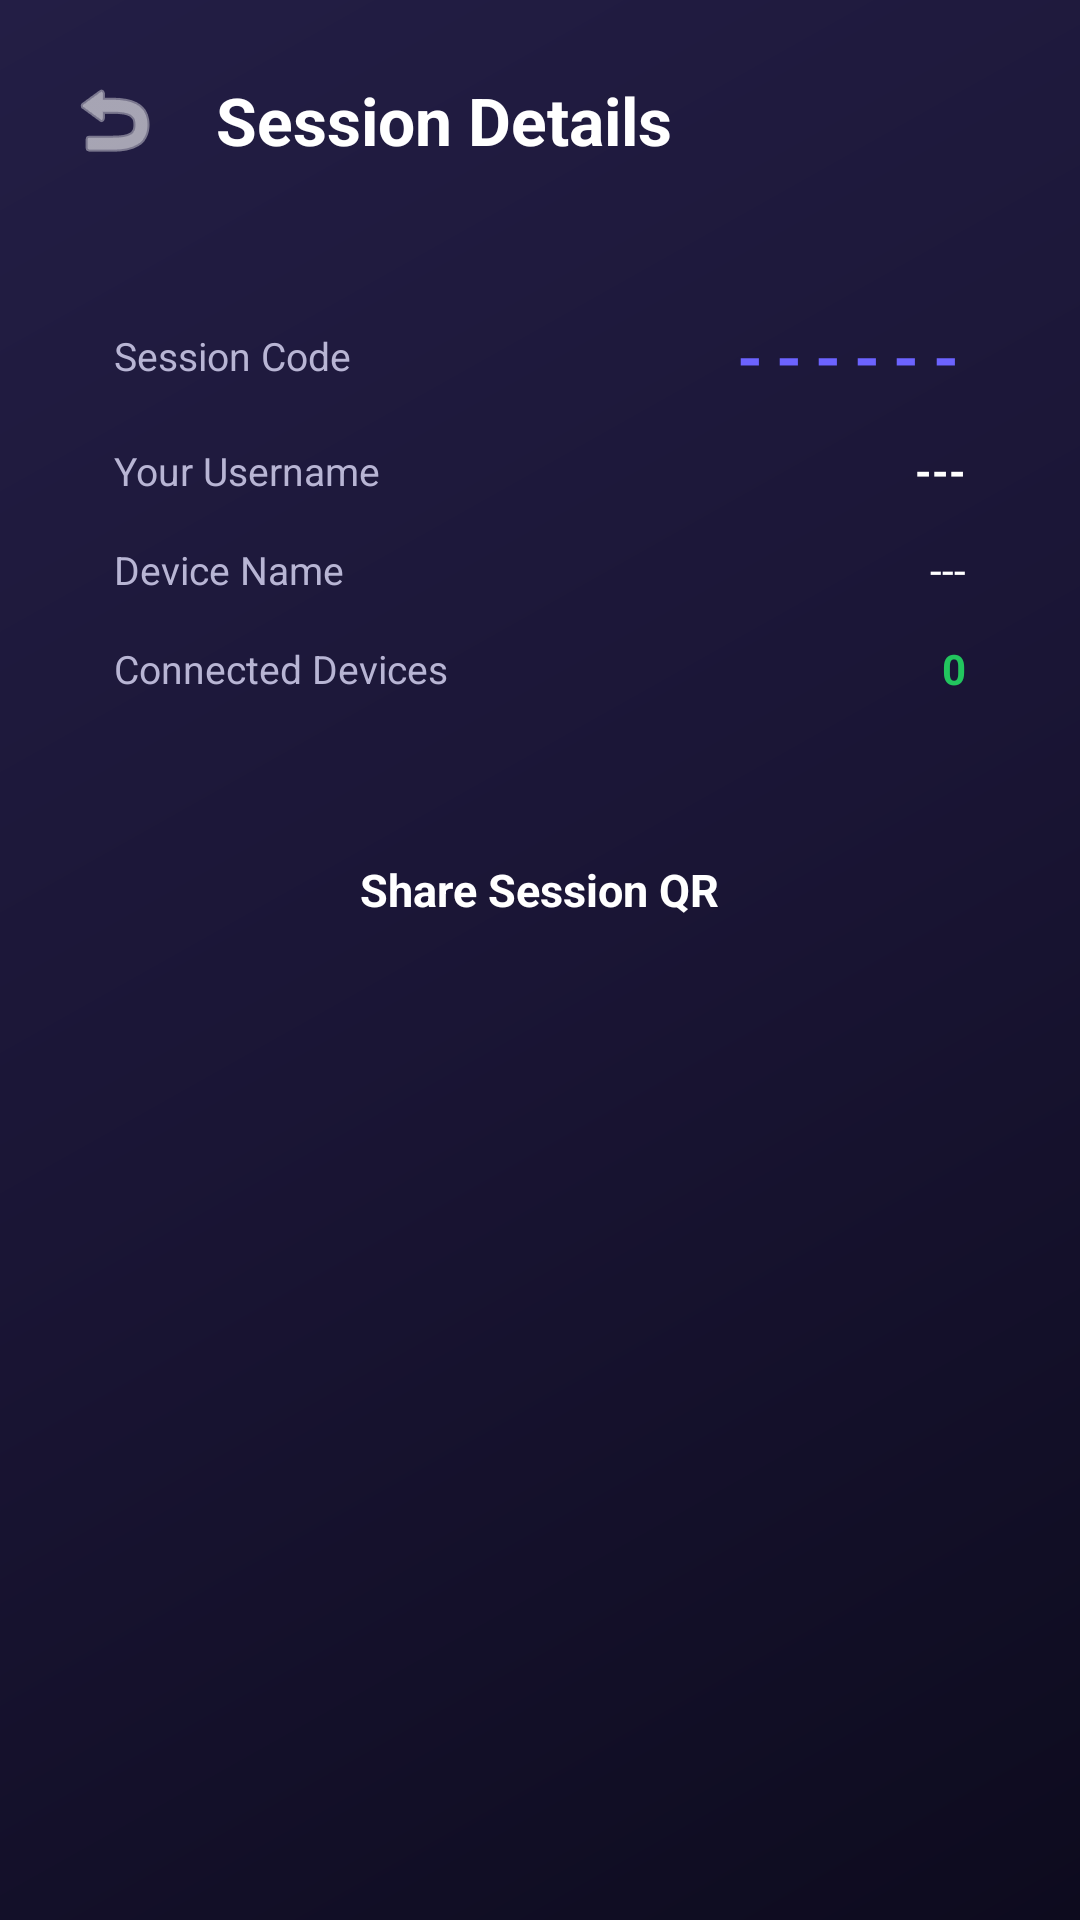

Screen size 1080 × 1920. Icon name, then its box in pixels as (x1, y1, x2, y2):
Back: (81, 89, 150, 152)
